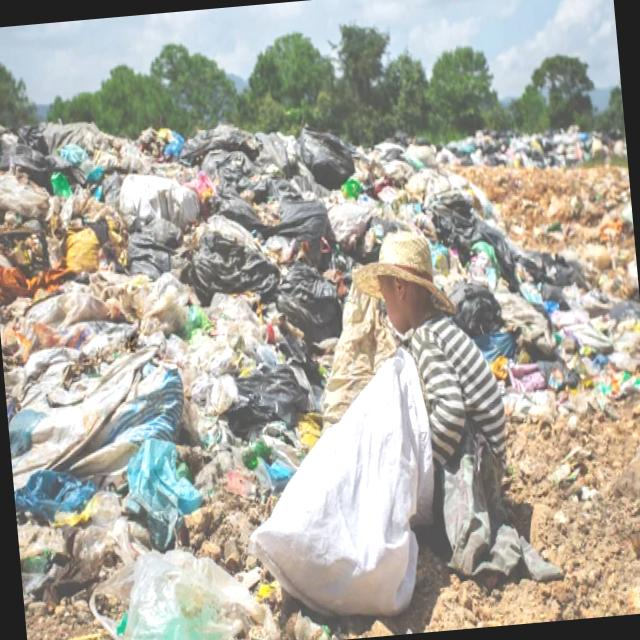garbage: (0, 130, 381, 573)
